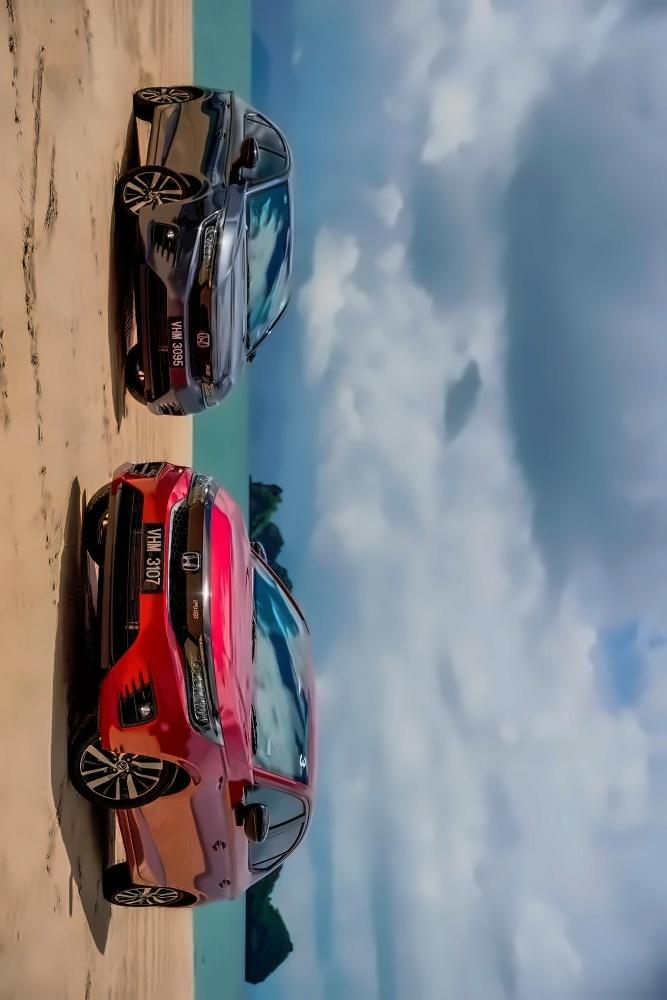Car hood: (205, 480, 259, 788), (208, 189, 251, 394)
Driver-s door - -F-R-: (136, 131, 294, 189)
Fender - -F-L-: (137, 739, 281, 814)
Fender - -F-R-: (160, 160, 243, 220)
Front bumper: (98, 457, 193, 760), (136, 194, 209, 419)
Headlight - -L-: (180, 631, 224, 748), (204, 383, 220, 412)
Headlight - -R-: (194, 211, 223, 290), (184, 470, 215, 508)
Passenger-s door - -F-L-: (100, 777, 327, 842)
Passenger-s door - -R-L-: (105, 810, 322, 890)
Passenger-s door - -R-R-: (153, 98, 287, 151)
Side bumper - -L-: (105, 806, 177, 893)
Side bumper - -R-: (143, 101, 185, 171)
Side mirror - -L-: (232, 800, 267, 845)
Side mirror - -R-: (229, 134, 268, 184)
